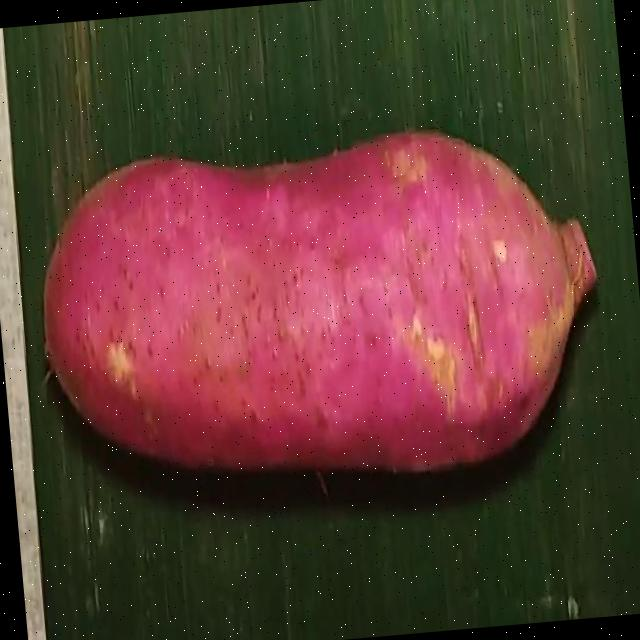Sweet Potato: (43, 126, 585, 469)
